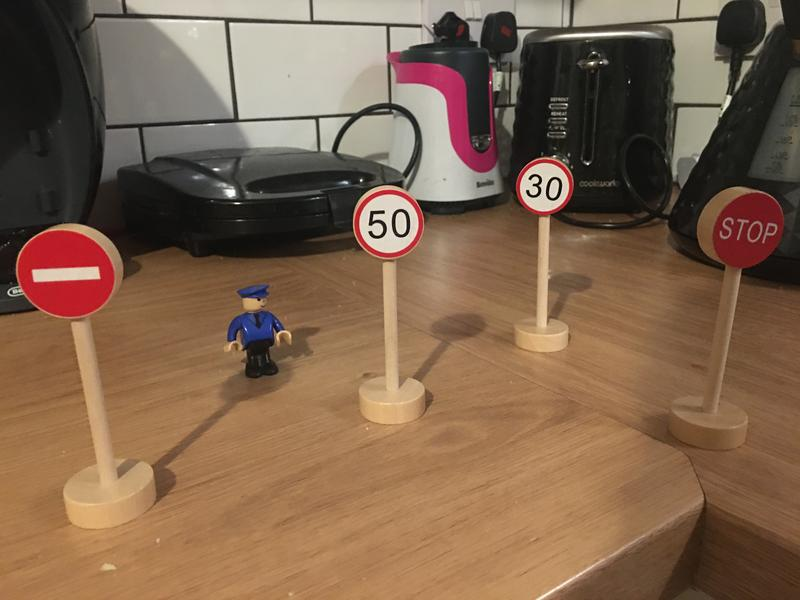Traffic_Sign_30: (517, 158, 571, 212)
Traffic_Sign_50: (353, 190, 424, 261)
Traffic_Sign_No_Entry: (15, 230, 115, 319)
Traffic_Sign_Stop: (712, 192, 781, 268)
person: (222, 284, 294, 378)
